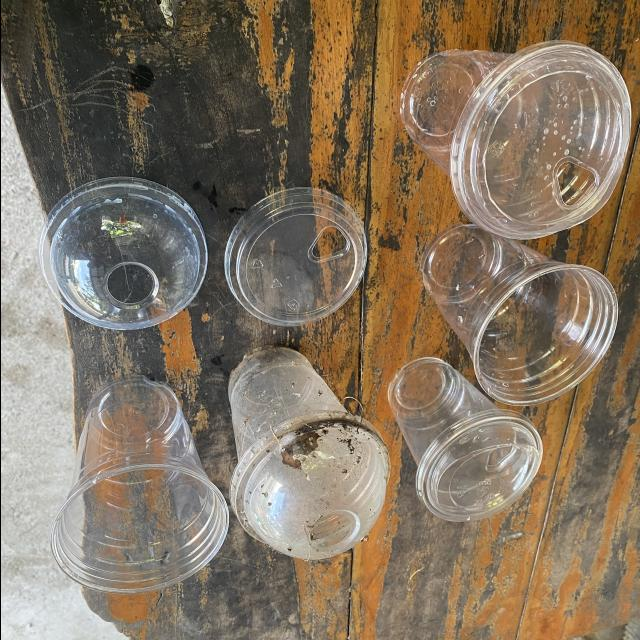plastik: (400, 40, 630, 239), (51, 375, 227, 594), (420, 224, 617, 406), (227, 347, 388, 561), (39, 177, 207, 330), (387, 357, 542, 521), (223, 187, 366, 326)
